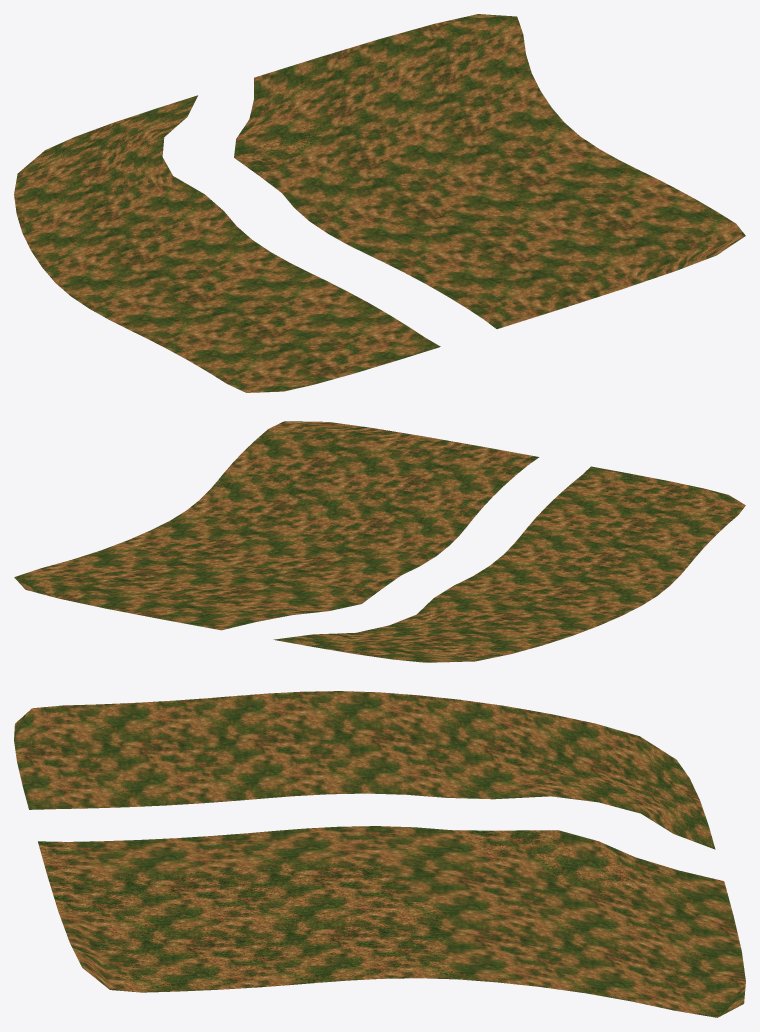
File: ground.fbx
3 renders of one model, top to bottom at view 1: azimuth 30°, elevation 25°; view 2: azimuth 150°, elevation 25°; view 3: azimuth 270°, elevation 25°, orthographic. The views are drawn at different scales.
Parts seen in each view (by area): view 1: Ground; view 2: Ground; view 3: Ground.
Boxes of the visible parts, left/top/right/bottom form: Ground: left=14, top=14, right=745, bottom=392; Ground: left=14, top=421, right=745, bottom=662; Ground: left=14, top=691, right=745, bottom=1017.
Bounding box in the file's own units: 4184 × 2.86 × 3960.
